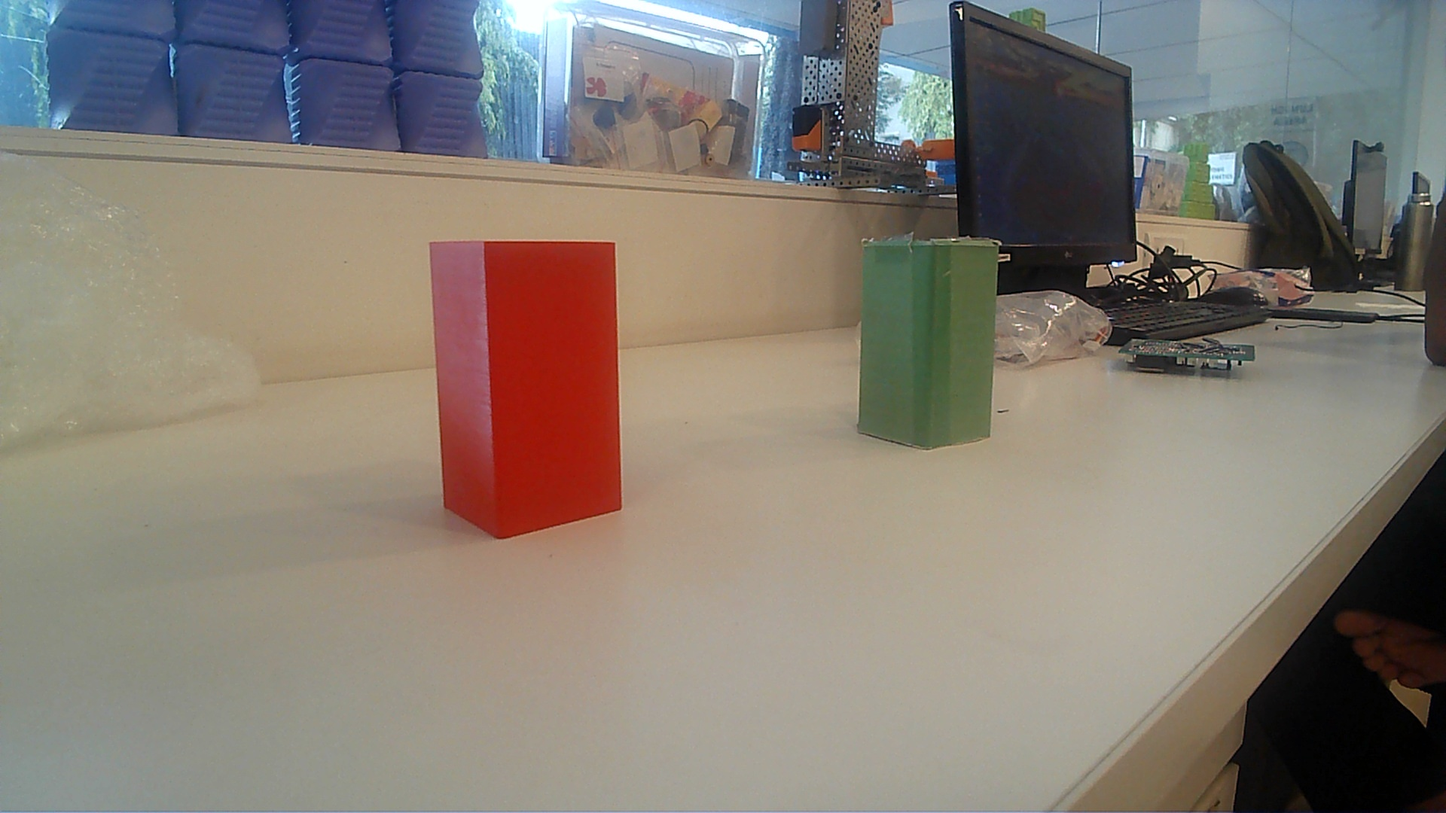green: (859, 244, 1002, 453)
